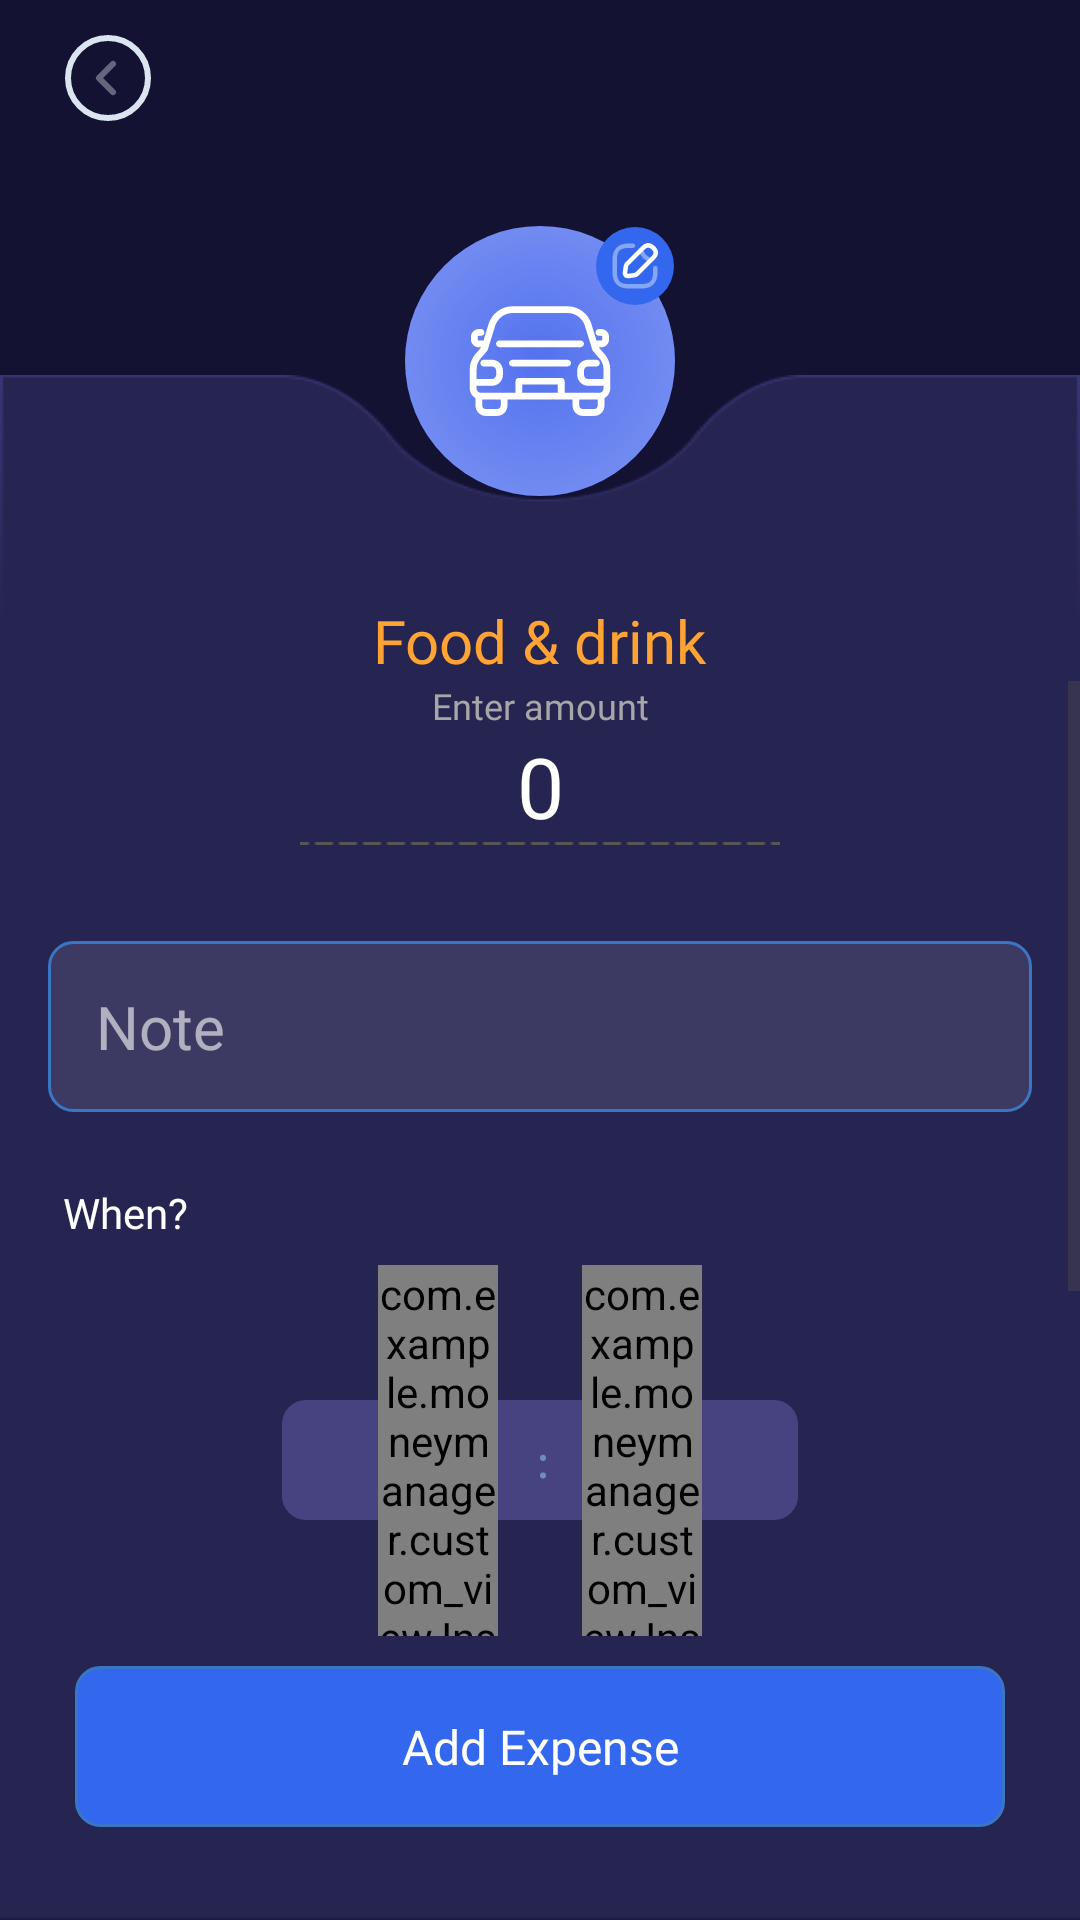

Icon bounding boxes for this 1080 × 1920 phone screenshot, format (x1, y1, x2, y2):
back: (65, 35, 151, 121)
